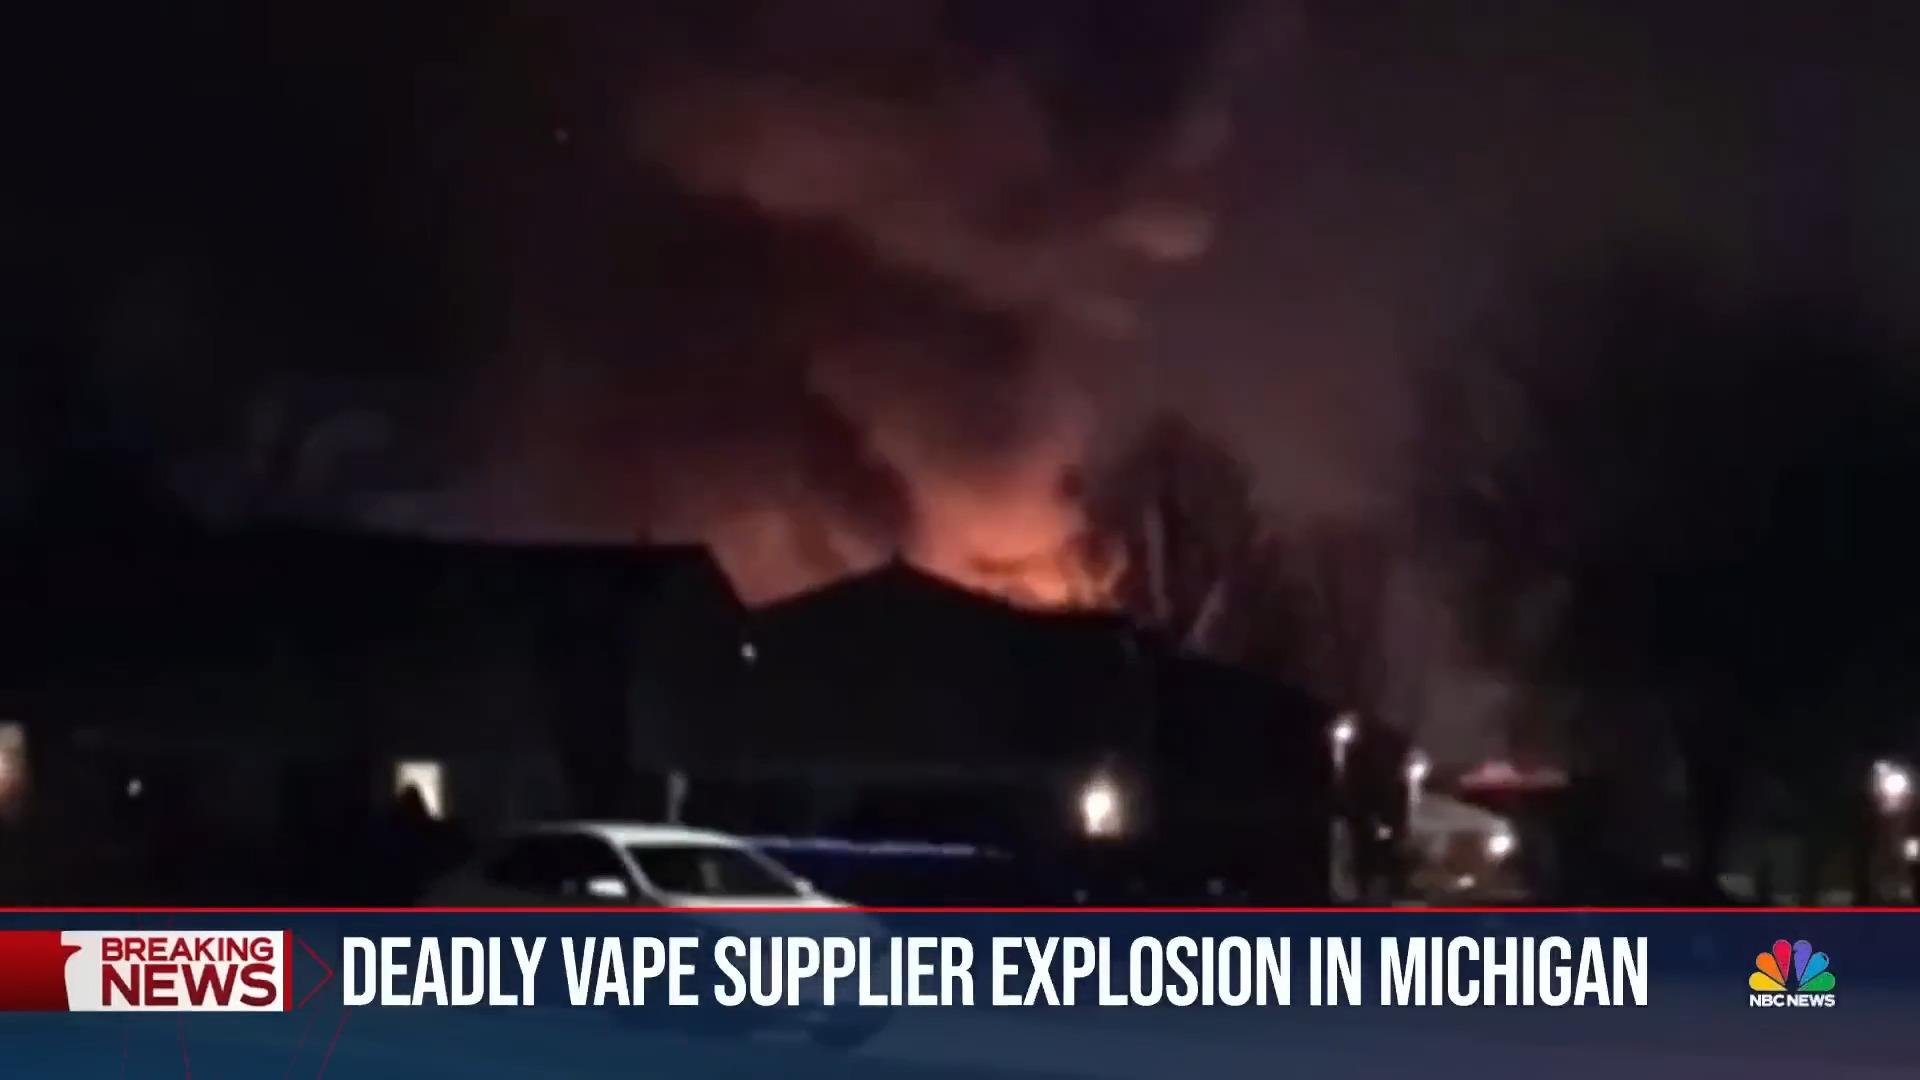fire: (825, 426, 1185, 633)
